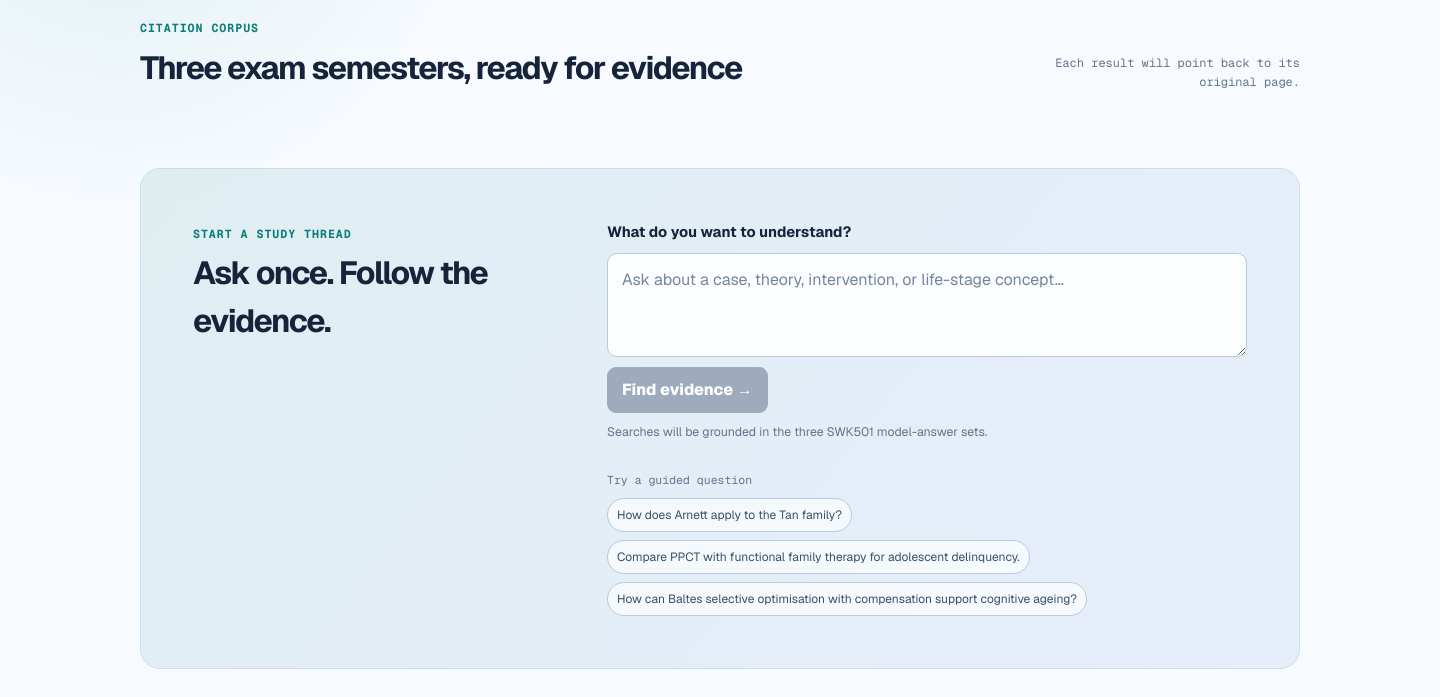
shows the backend refusal as a no-evidence state
(page scrolled)
Type "An unrelated question" into the text box at (927, 305), box left=607, top=253, right=1247, bottom=357
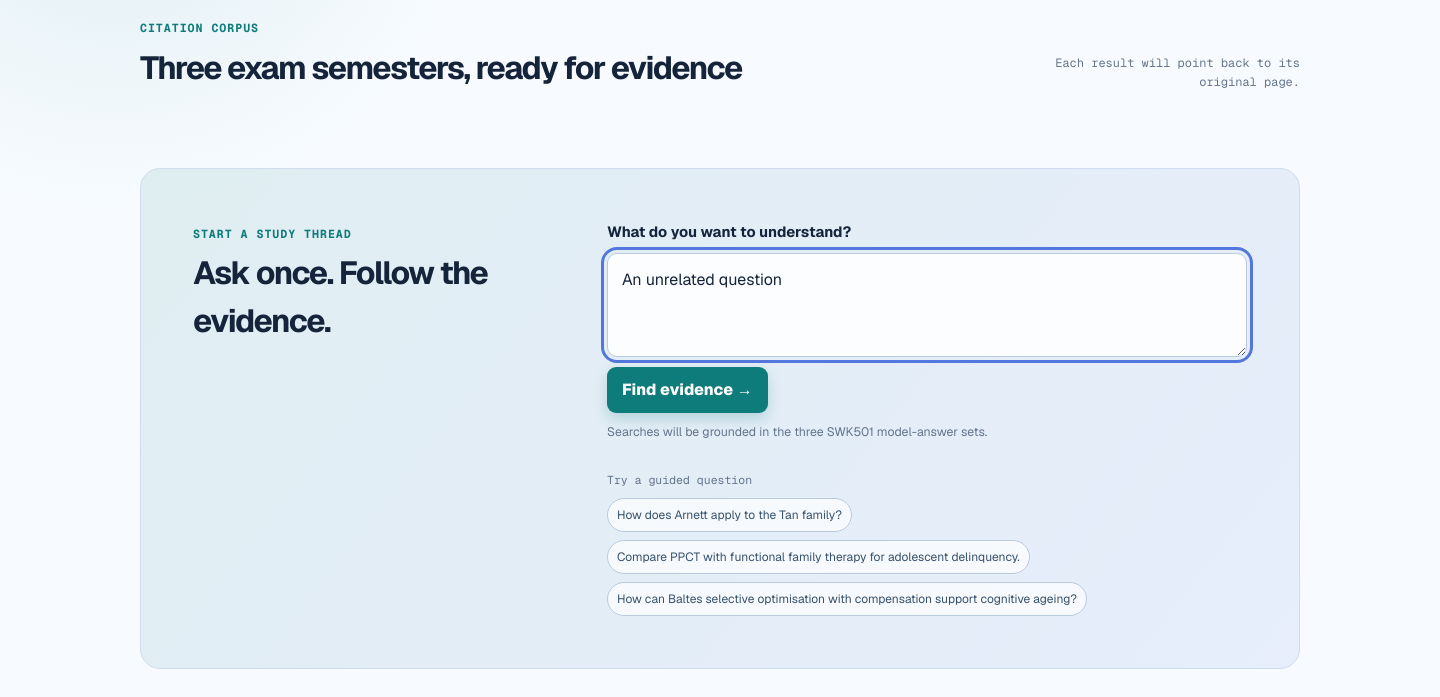
Click the button "Find evidence →" at (687, 390), box left=607, top=367, right=768, bottom=413
(page scrolled)
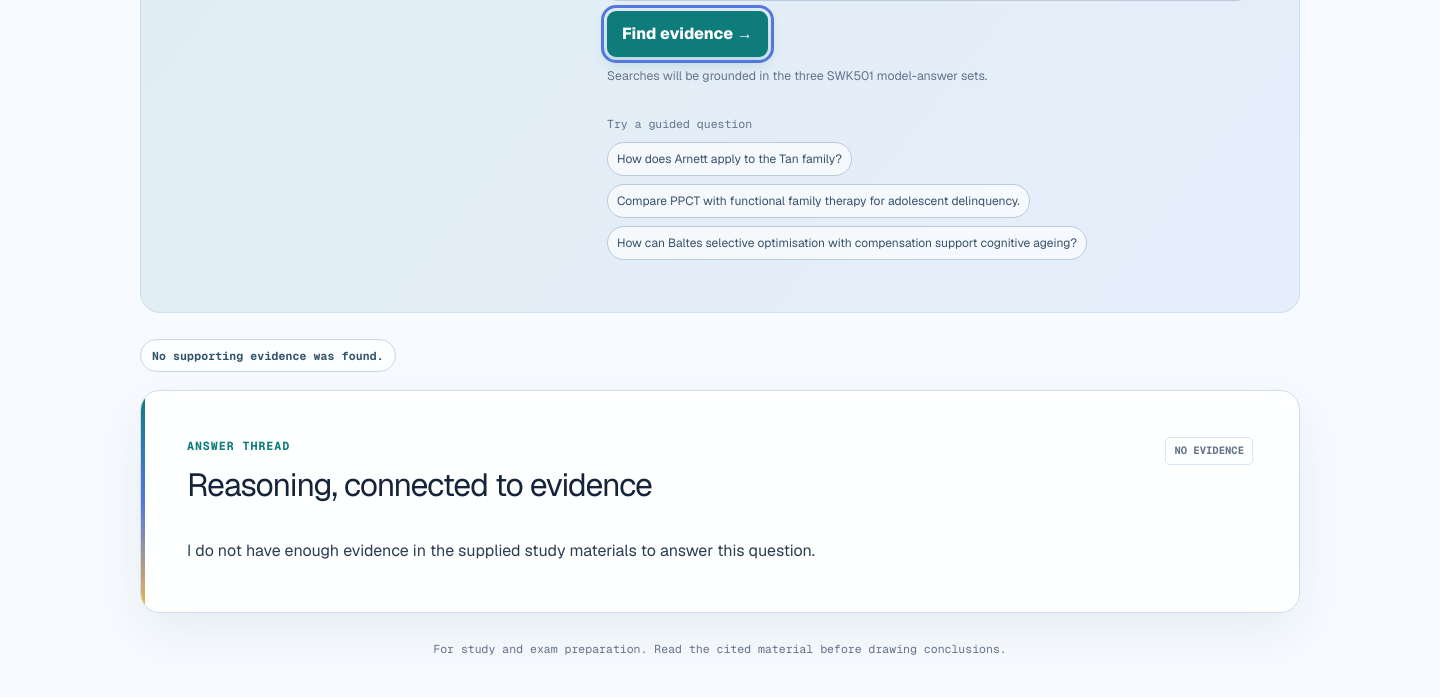
Result: the text "No supporting evidence was found." is shown at left=140, top=338, right=396, bottom=372
Result: the text "I do not have enough evidence" is shown at left=187, top=540, right=815, bottom=561
